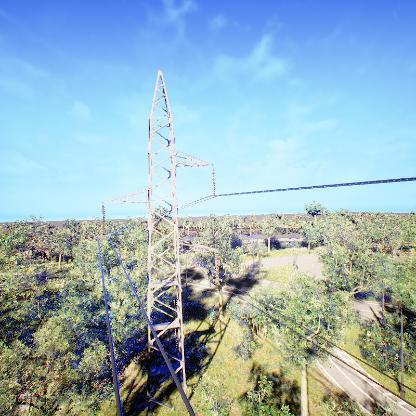tower: (96, 71, 219, 406)
